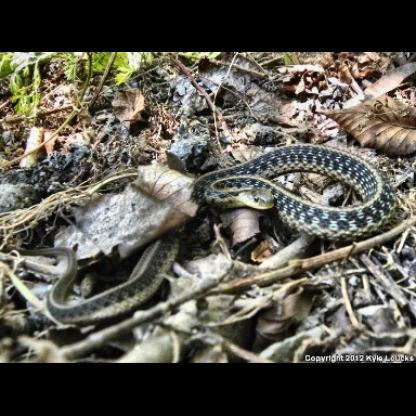Snake: (50, 144, 397, 330)
